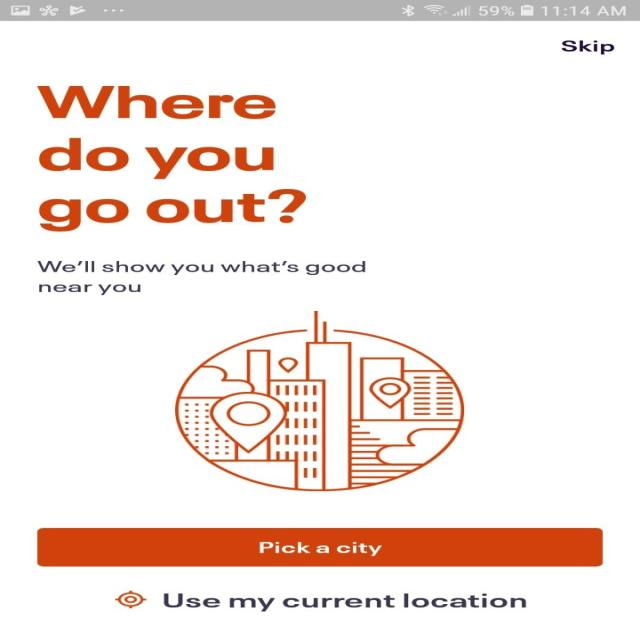Icon: (114, 590, 146, 608)
Image: (173, 310, 464, 492)
Text: (36, 86, 306, 232), (38, 260, 366, 296), (163, 592, 526, 612), (560, 40, 614, 55)
TextButton: (36, 527, 602, 567)
